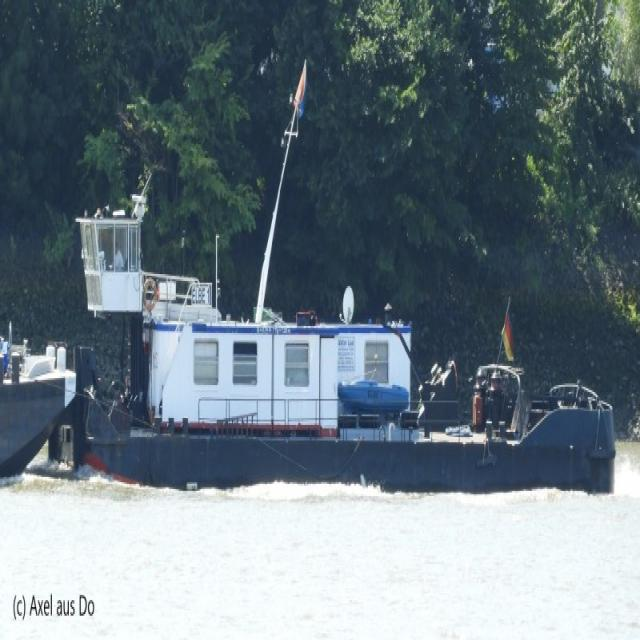tugboat: (46, 187, 620, 513)
